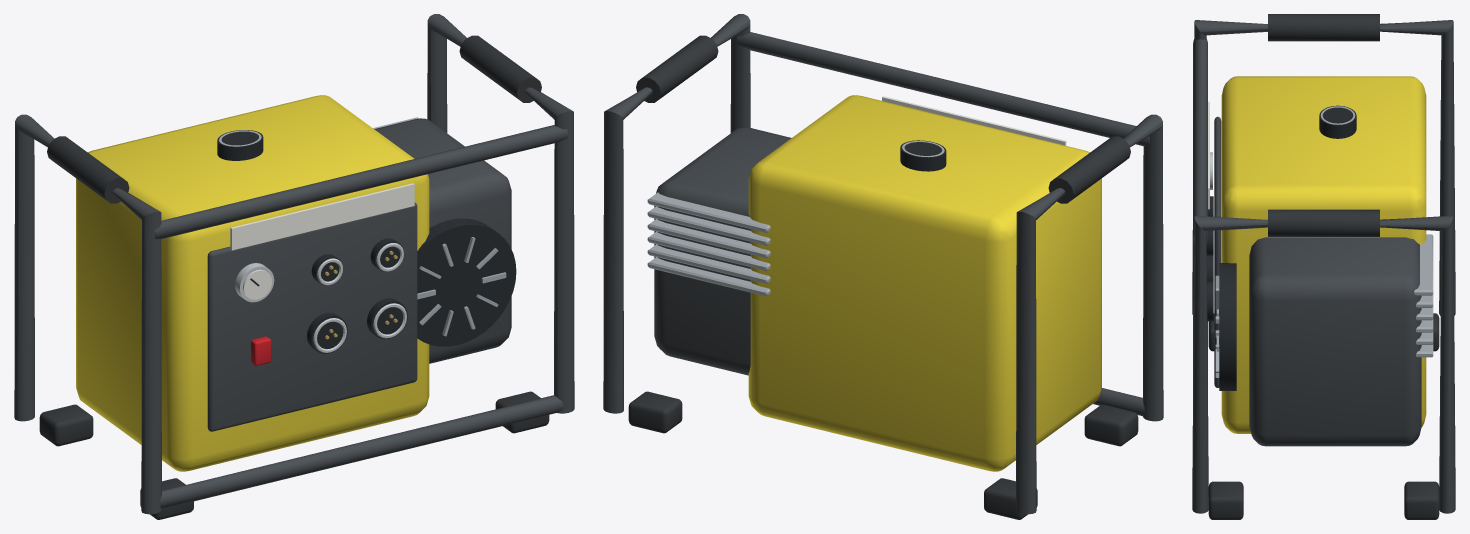
The model's file is generator.glb.
3 renders of one model, left to right at view 1: azimuth 30°, elevation 25°; view 2: azimuth 150°, elevation 25°; view 3: azimuth 270°, elevation 25°, orthographic. The views are drawn at different scales.
Parts seen in each view (by area): view 1: generator; view 2: generator; view 3: generator.
Boxes of the visible parts, box(x1,y1,x2,y2) form: generator: box(14, 14, 574, 519); generator: box(603, 14, 1163, 519); generator: box(1192, 14, 1455, 519).
Size of the model in its own units: 0.82 by 0.58 by 0.44.
